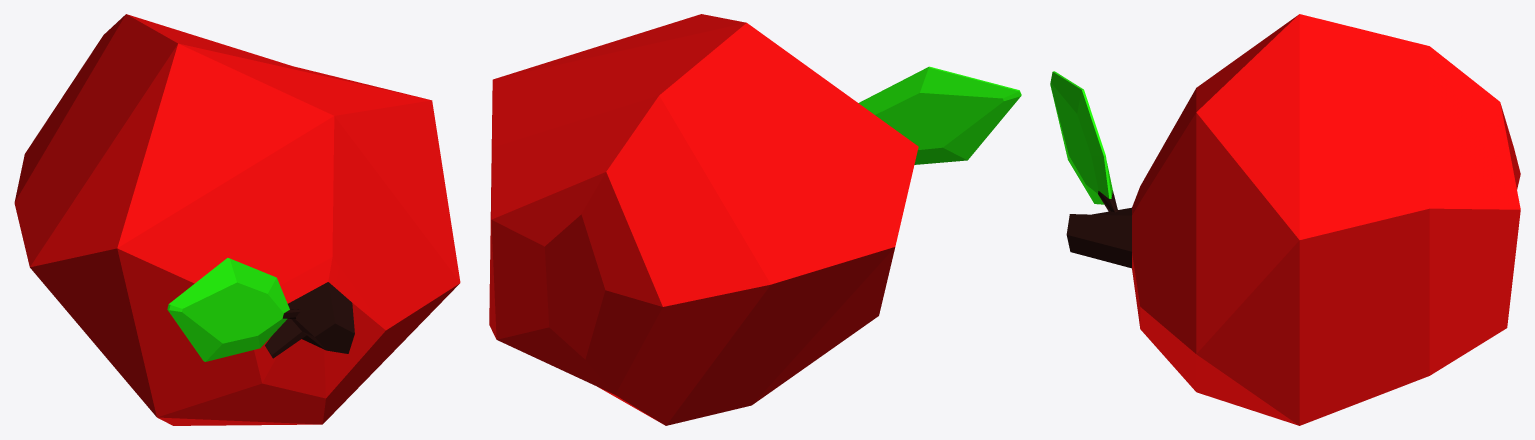
Rendered from Apple.fbx.
The picture shows the model from 3 angles, left to right: view 1: azimuth 30°, elevation 25°; view 2: azimuth 150°, elevation 25°; view 3: azimuth 270°, elevation 25°; orthographic projection. The views are drawn at different scales.
Visible parts, largest first — view 1: Apple; view 2: Apple; view 3: Apple.
Part boxes in pixels (x1,y1,x2,y2): Apple: (14, 14, 460, 425); Apple: (489, 14, 1021, 425); Apple: (1050, 14, 1520, 425).
Size of the model in its own units: 2.53 by 2.29 by 2.75.
